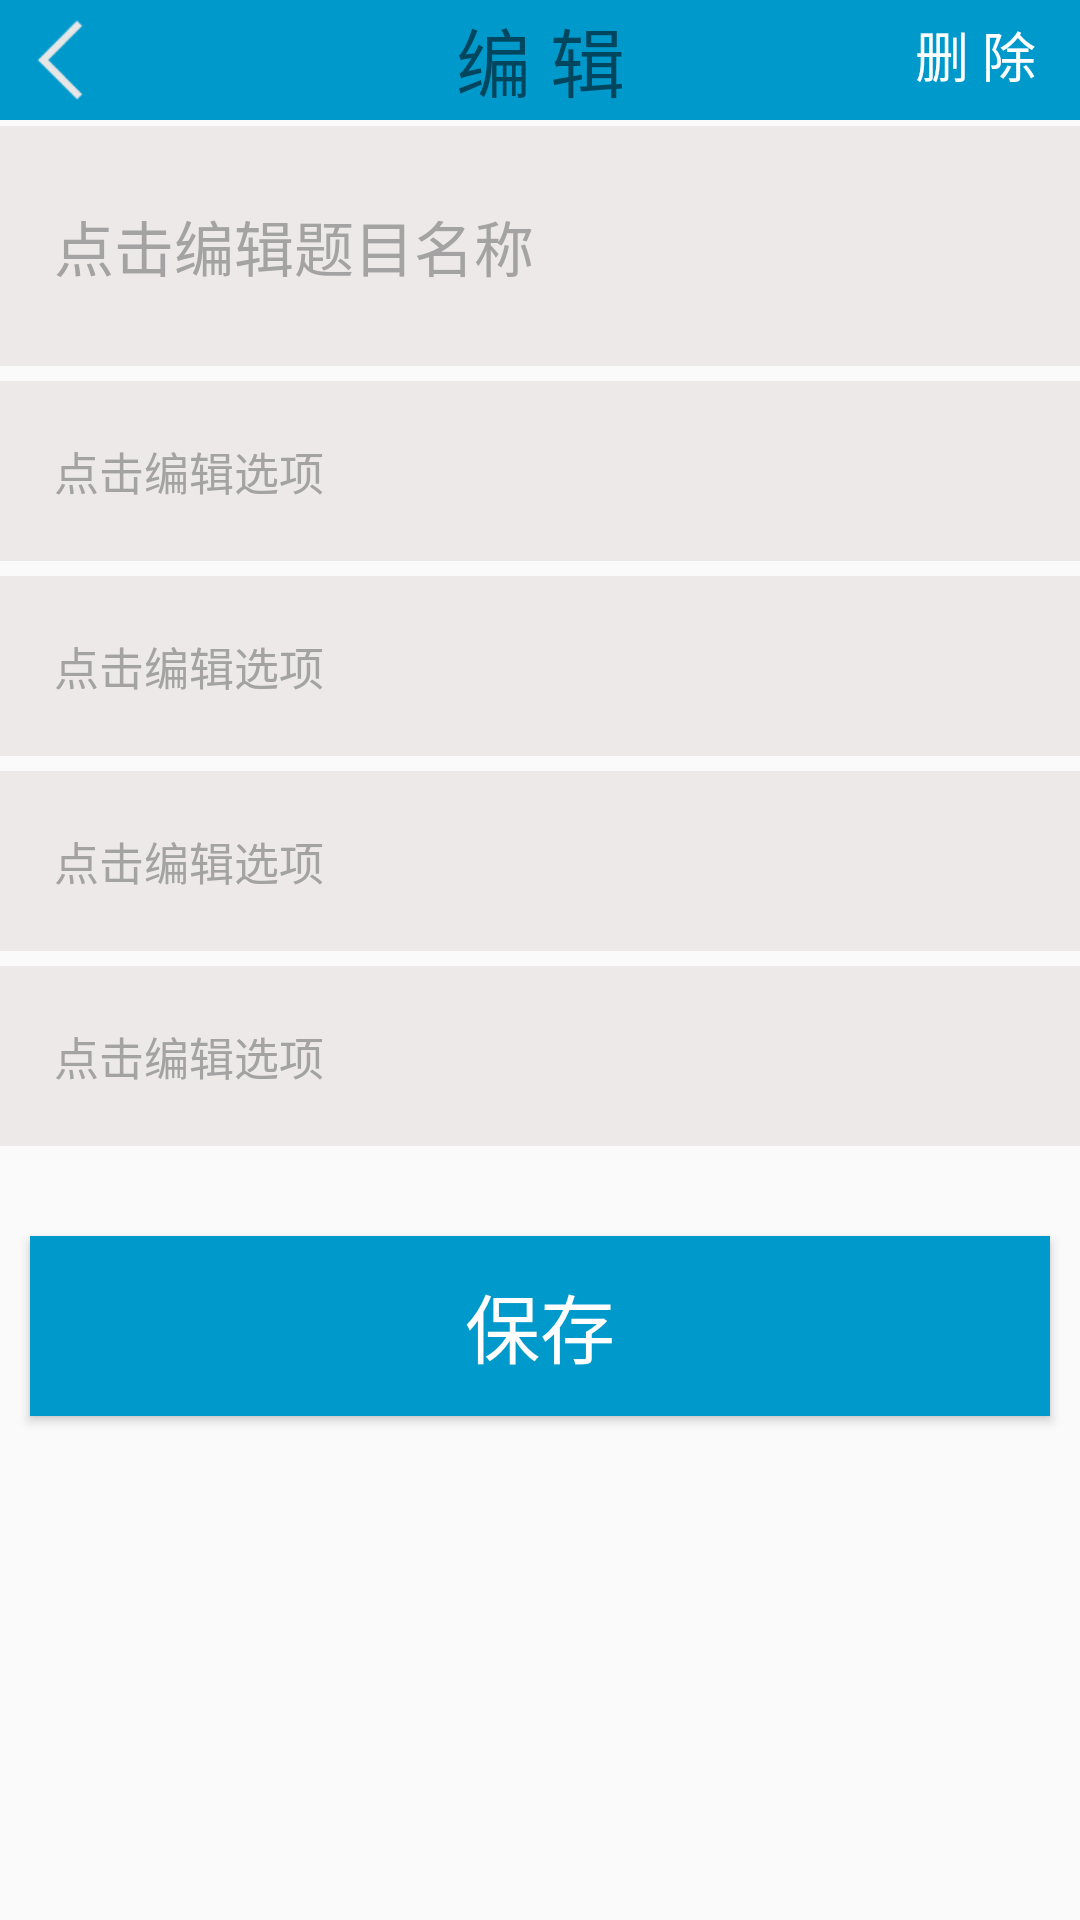

Icons on this 1080px x 1920px Android screen, each with the point to tap as (x=x, y=y):
back: (x=60, y=60)
